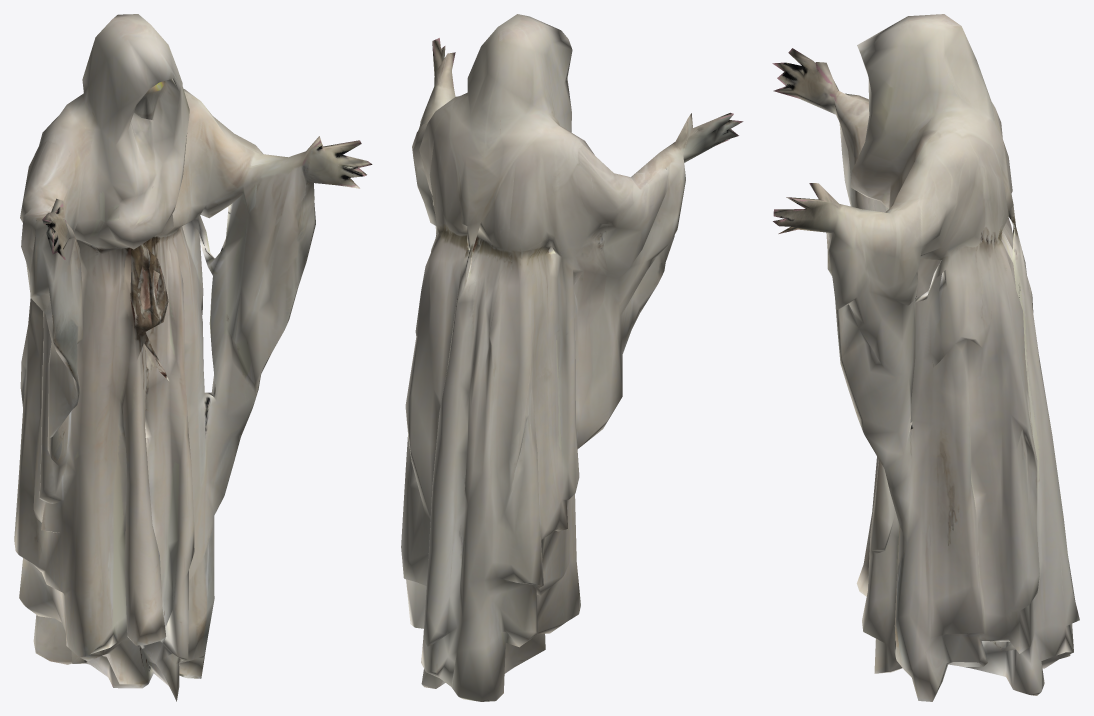
File: ghost.obj
3 views of the same model, side by side, from view 1: azimuth 30°, elevation 25°; view 2: azimuth 150°, elevation 25°; view 3: azimuth 270°, elevation 25° (orthographic). The views are drawn at different scales.
Visible parts, largest first — view 1: model; view 2: model; view 3: model.
Part boxes in pixels (left/top/right/bottom): model: left=14, top=14, right=372, bottom=701; model: left=401, top=14, right=743, bottom=701; model: left=772, top=14, right=1079, bottom=701.
Bounding box in the file's own units: 0.9963 × 2 × 0.8503.
